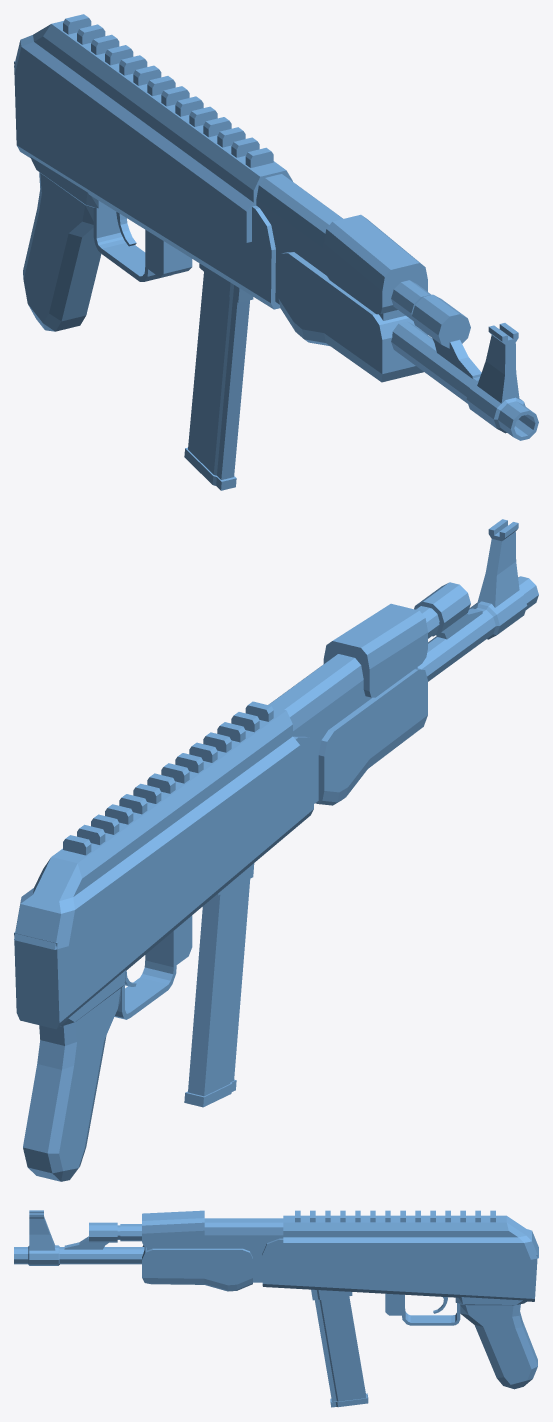
The model's file is wep_rifle_01.glb.
3 views of the same model, one above another, from view 1: azimuth 30°, elevation 25°; view 2: azimuth 150°, elevation 25°; view 3: azimuth 270°, elevation 25° (orthographic). The views are drawn at different scales.
Parts seen in each view (by area): view 1: _tmp_rifle.obj; view 2: _tmp_rifle.obj; view 3: _tmp_rifle.obj.
Part boxes in pixels (<box>): _tmp_rifle.obj: <box>14,14,538,490</box>; _tmp_rifle.obj: <box>14,519,538,1181</box>; _tmp_rifle.obj: <box>14,1210,538,1407</box>.
Bounding box in the file's own units: 0.0505 × 0.3247 × 0.8.
